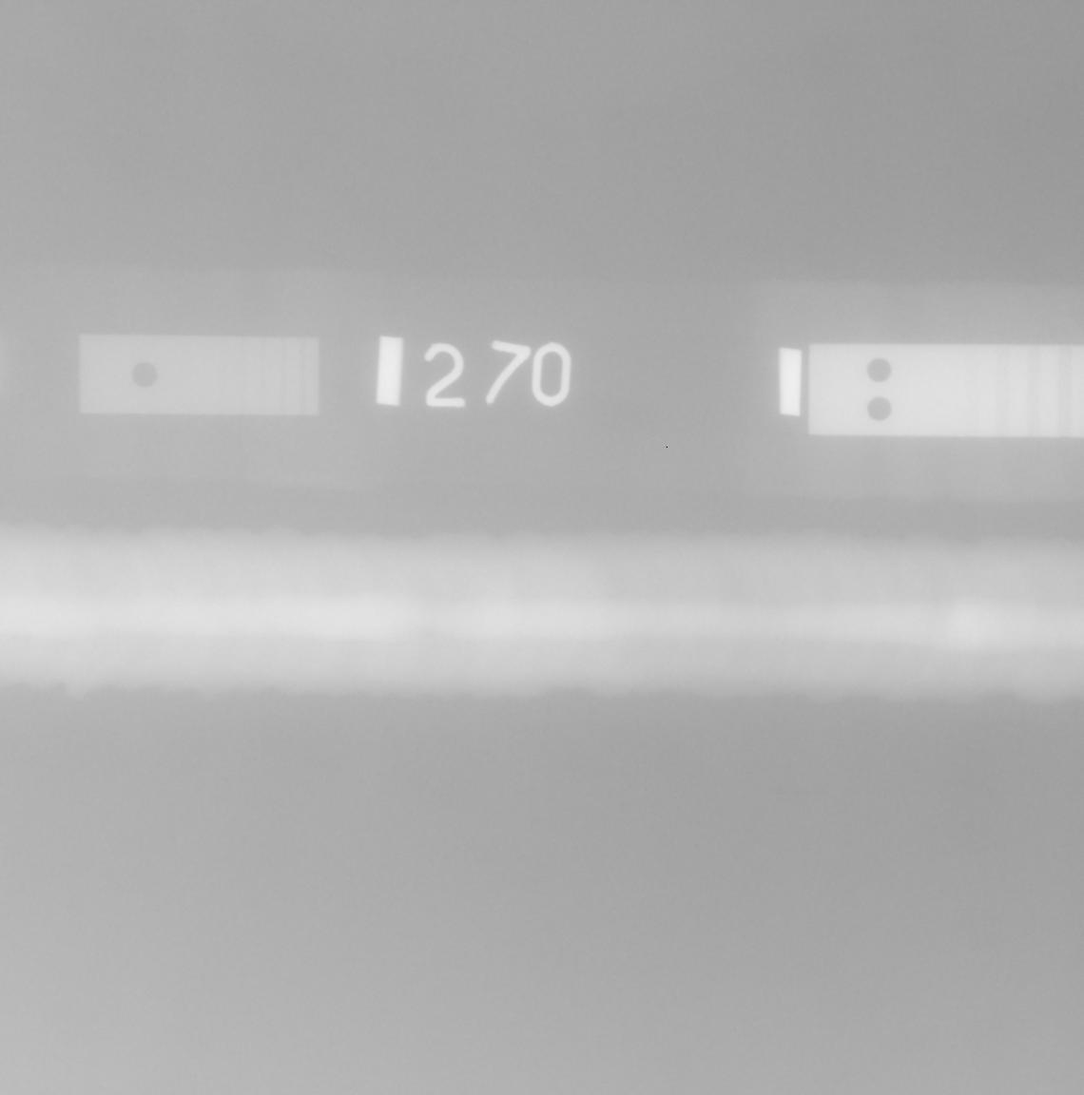Reference Standard 1: (78, 334, 320, 415)
